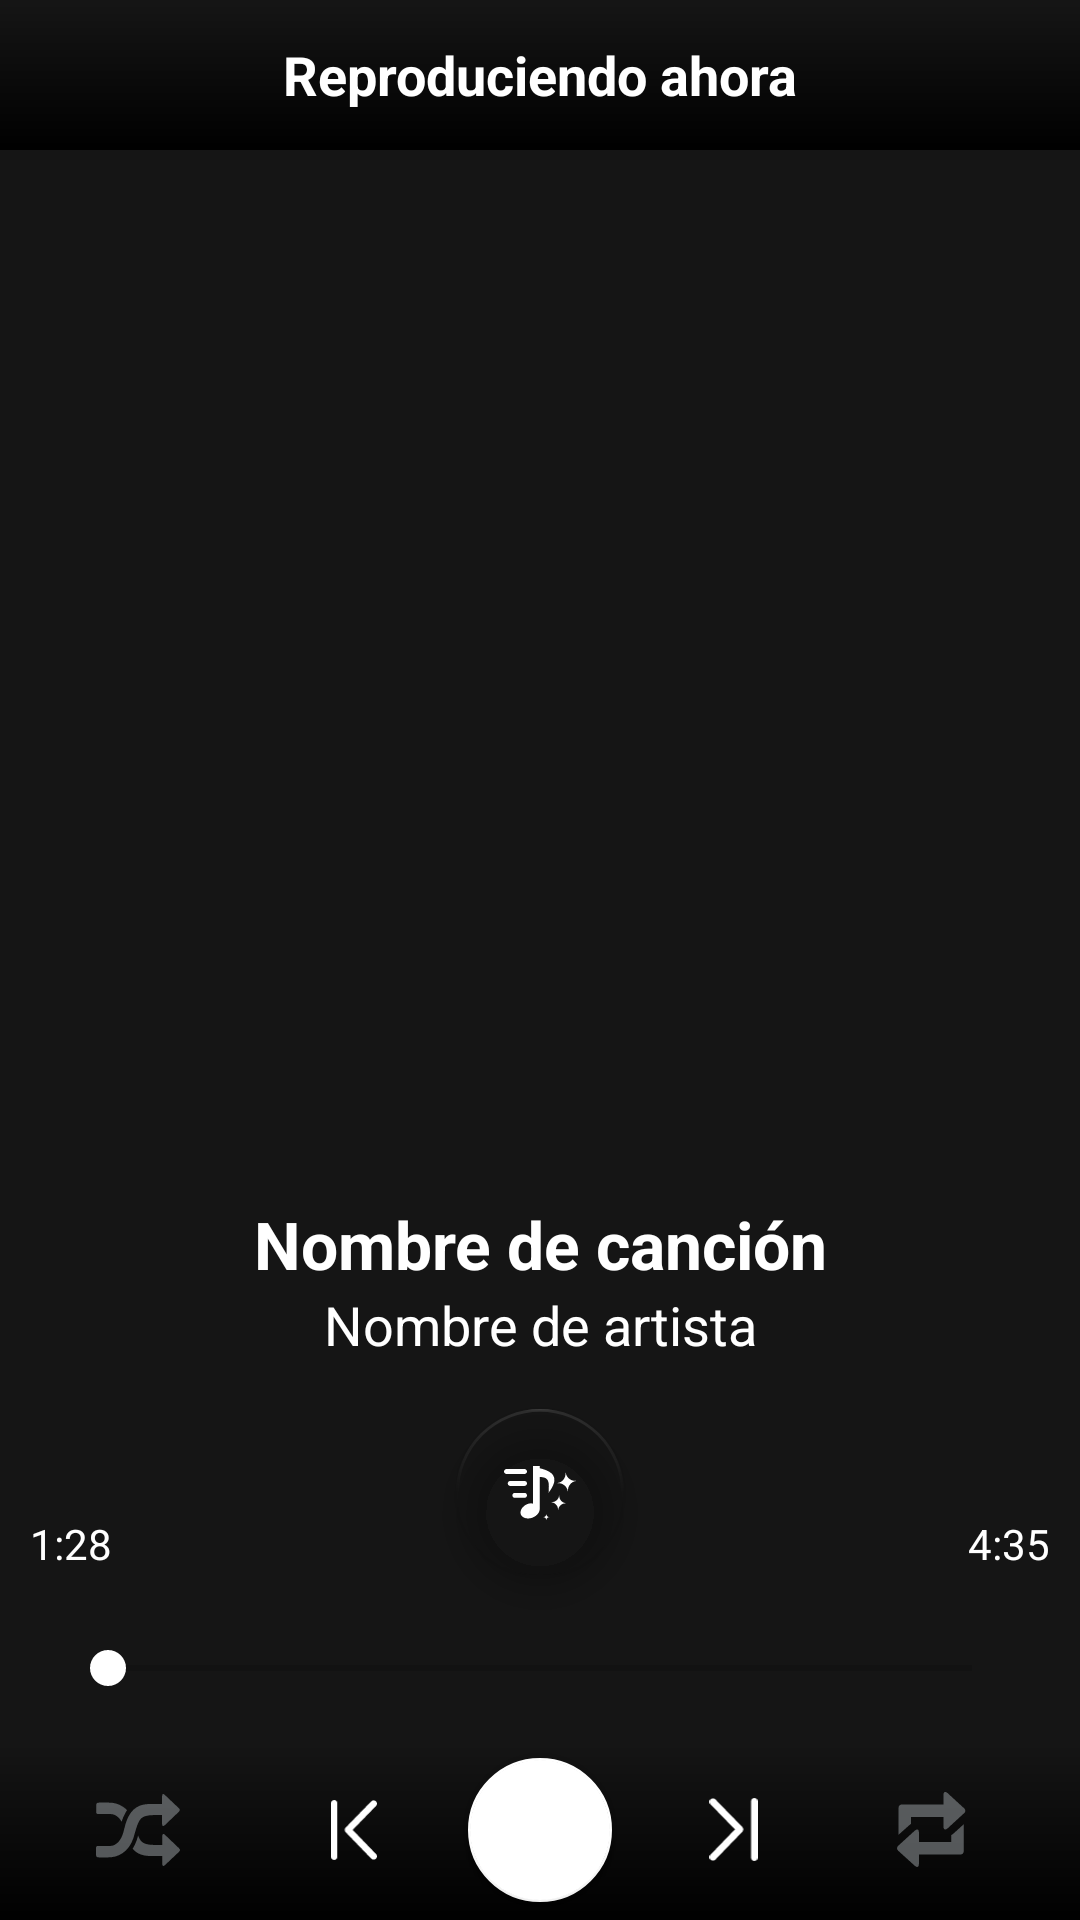

Icon click points for this 1080 x 1920 phone screenshot, format point (x, y):
repeat off: point (931, 1829)
shuffle off: point (138, 1830)
skip next: point (733, 1829)
skip previous: point (354, 1830)
